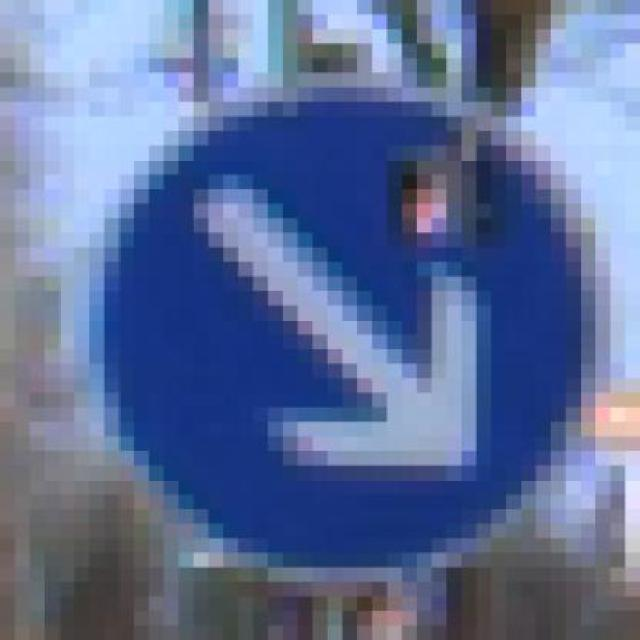Keep-Right: (104, 73, 610, 582)
